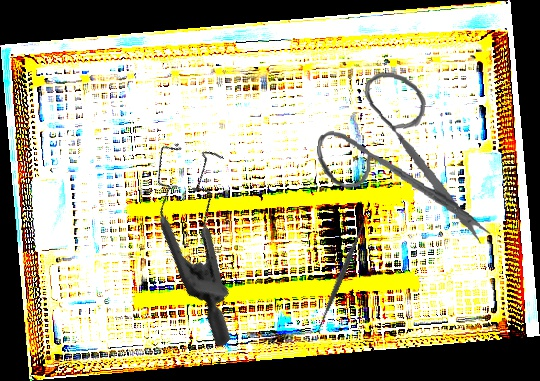Iris Scissors: (310, 66, 506, 246)
Spatula Surgical: (310, 214, 373, 336)
Speculum: (93, 121, 318, 349)
